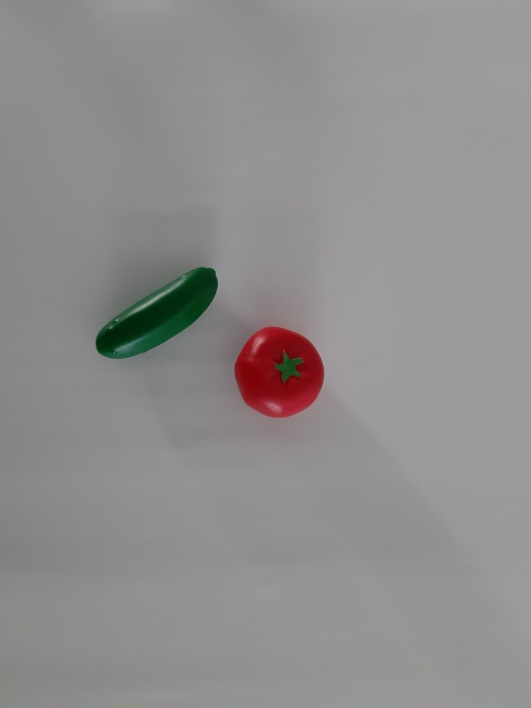cucumber: (85, 254, 237, 374)
tomato: (226, 318, 334, 427)
